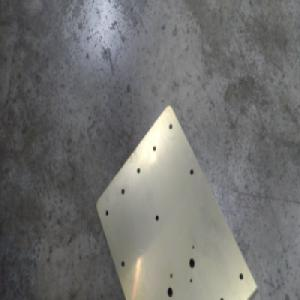MetalSheet: (94, 100, 260, 300)
